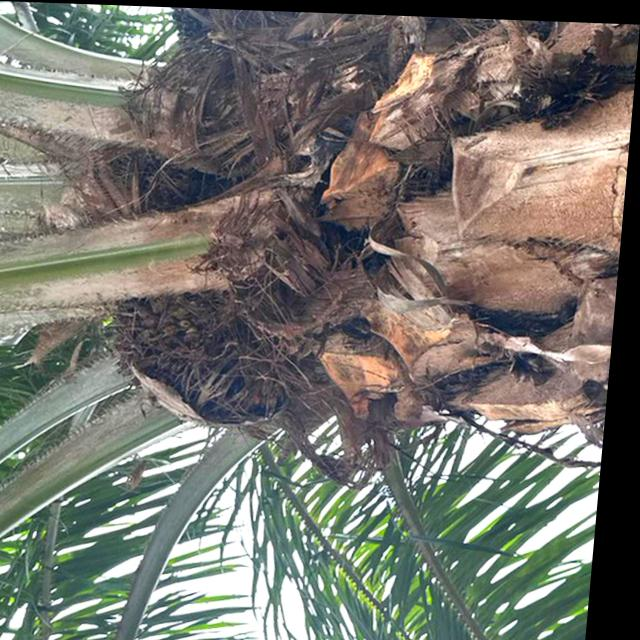almost: (113, 286, 295, 428)
